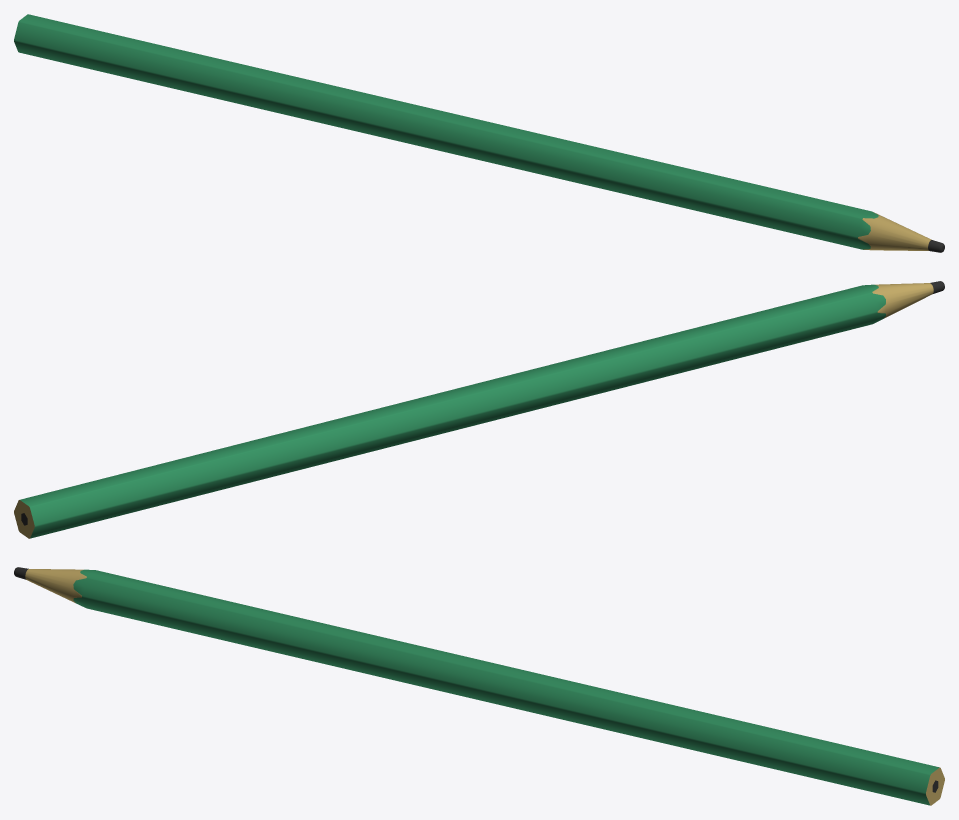
File: Pen.glb
3 renders of one model, top to bottom at view 1: azimuth 90°, elevation 25°; view 2: azimuth 150°, elevation 25°; view 3: azimuth 270°, elevation 25°, orthographic. The views are drawn at different scales.
Parts seen in each view (by area): view 1: CRAYON_01; view 2: CRAYON_01; view 3: CRAYON_01.
Boxes of the visible parts, x1=… form: CRAYON_01: x1=14, y1=14, x2=944, y2=252; CRAYON_01: x1=14, y1=281, x2=944, y2=538; CRAYON_01: x1=14, y1=567, x2=944, y2=805.
Size of the model in its own units: 0.8234 by 0.0546 by 1.45.
